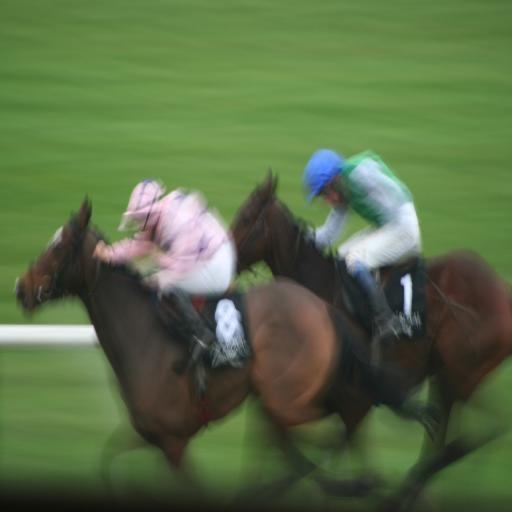horse: (12, 194, 444, 512), (228, 166, 512, 512)
